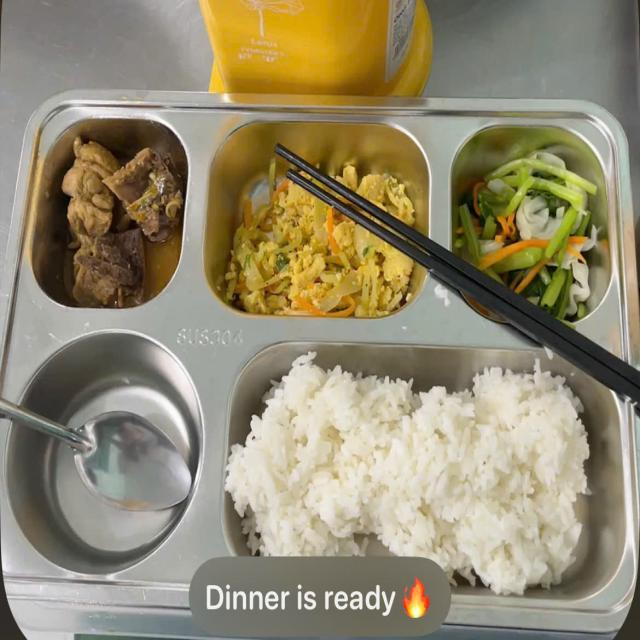com_trang: (246, 362, 584, 574)
thit_kho: (50, 136, 184, 308)
trung_chien: (248, 183, 385, 312)
